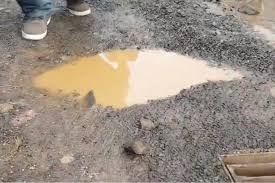potholes: (15, 30, 275, 141)
